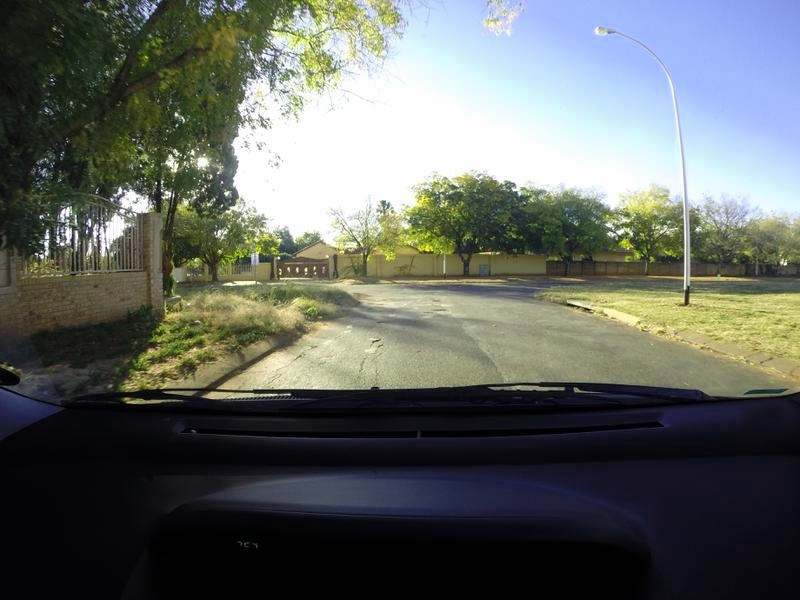pothole: (305, 343, 318, 350), (377, 318, 397, 322), (435, 308, 453, 312), (294, 355, 303, 361), (370, 338, 379, 342), (434, 296, 439, 303)
